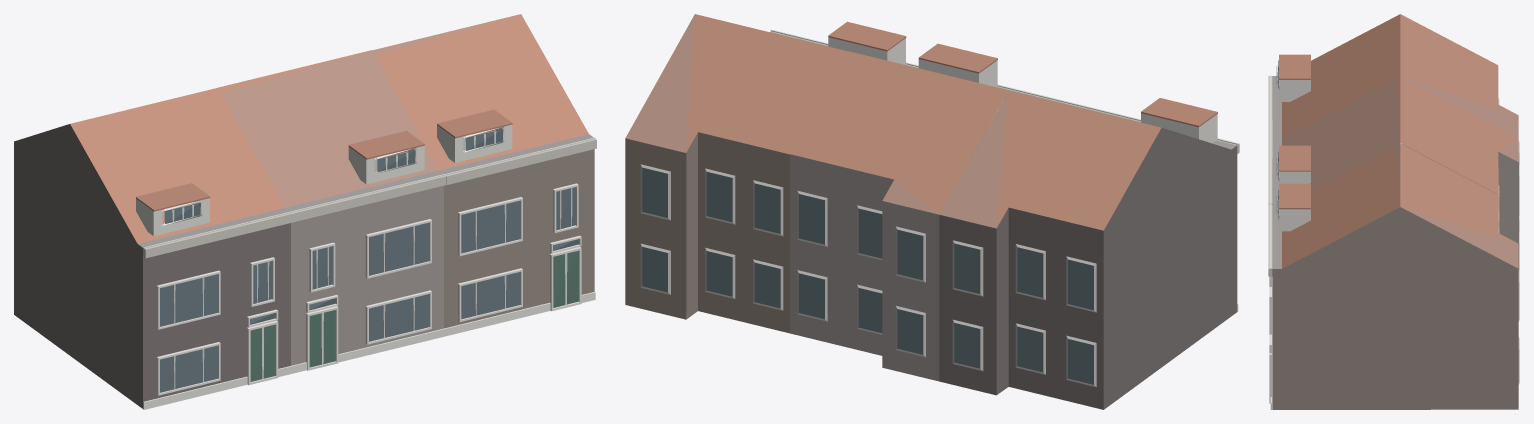
Rendered from chunk-face-kalkoen-28-34-r1.lod2.glb.
The picture shows the model from 3 angles, left to right: view 1: azimuth 30°, elevation 25°; view 2: azimuth 150°, elevation 25°; view 3: azimuth 270°, elevation 25°; orthographic projection. The views are drawn at different scales.
Parts seen in each view (by area): view 1: lod2; view 2: lod2; view 3: lod2.
Part boxes in pixels (x1,y1,x2,y2): lod2: (14, 14, 596, 409); lod2: (625, 14, 1239, 409); lod2: (1268, 14, 1519, 409).
Bounding box in the file's own units: 18.93 × 9.29 × 10.43.
